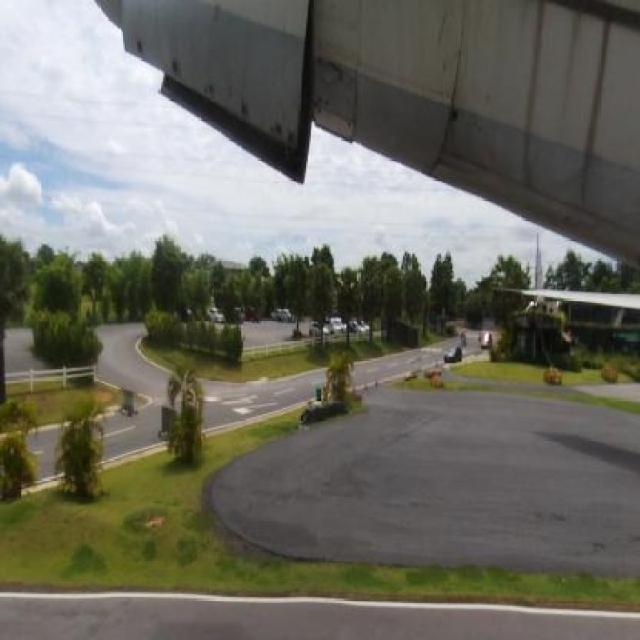Rust: (575, 4, 620, 221), (430, 5, 482, 186), (509, 1, 554, 208), (314, 36, 366, 150), (265, 97, 309, 175), (158, 32, 188, 92), (200, 61, 225, 119), (227, 77, 255, 125), (126, 18, 148, 67)
